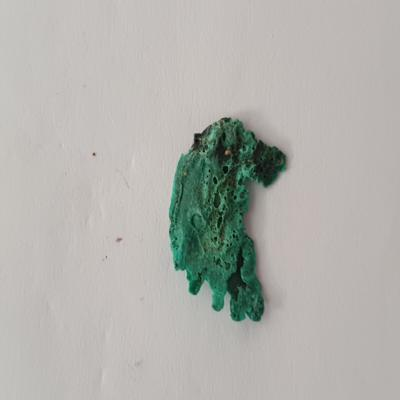plastic: (156, 112, 298, 326)
